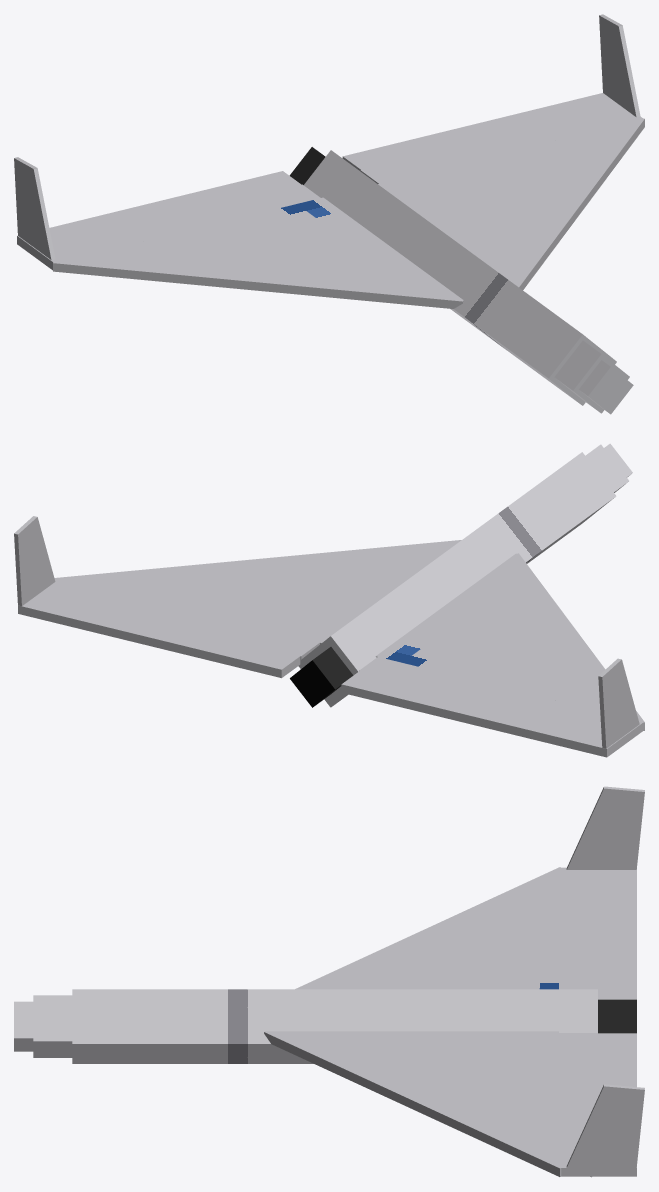
File: mgm172.obj
The picture shows the model from 3 angles, top to bottom: view 1: azimuth 30°, elevation 25°; view 2: azimuth 150°, elevation 25°; view 3: azimuth 270°, elevation 25°; orthographic projection. The views are drawn at different scales.
Parts seen in each view (by area): view 1: cube.061, cube.036, cube.050, cube.057, cube.037, cube.051, cube.048, cube.045, cube.052, cube.055, cube.043, cube.042 (+12 smaller); view 2: cube.061, cube.057, cube.048, cube.052, cube.050, cube.042, cube.051, cube.037, cube.036, cube.055, cube.045, cube.043 (+11 smaller); view 3: cube.061, cube.050, cube.036, cube.052, cube.048, cube.037, cube.042, cube.051, cube.055, cube.045, cube.060, cube.053 (+11 smaller).
Boxes of the visible parts, left/top/right/bottom form: cube.061: left=304, top=150, right=616, bottom=405; cube.036: left=53, top=249, right=463, bottom=308; cube.050: left=502, top=114, right=644, bottom=289; cube.057: left=342, top=93, right=621, bottom=171; cube.037: left=35, top=184, right=320, bottom=270; cube.051: left=360, top=106, right=642, bottom=183; cube.048: left=17, top=171, right=300, bottom=257; cube.045: left=248, top=204, right=391, bottom=273; cube.052: left=492, top=125, right=602, bottom=262; cube.055: left=402, top=166, right=512, bottom=243; cube.043: left=297, top=197, right=446, bottom=294; cube.042: left=97, top=237, right=402, bottom=281; cube.061: left=298, top=452, right=616, bottom=707; cube.057: left=18, top=592, right=300, bottom=678; cube.048: left=341, top=670, right=625, bottom=757; cube.052: left=94, top=549, right=436, bottom=602; cube.050: left=54, top=540, right=461, bottom=589; cube.042: left=491, top=568, right=600, bottom=716; cube.051: left=41, top=582, right=319, bottom=664; cube.037: left=359, top=657, right=643, bottom=743; cube.036: left=499, top=553, right=644, bottom=730; cube.055: left=249, top=572, right=385, bottom=636; cube.045: left=402, top=598, right=519, bottom=674; cube.043: left=375, top=566, right=525, bottom=662; cube.061: left=72, top=989, right=597, bottom=1063; cube.050: left=264, top=1031, right=572, bottom=1176; cube.036: left=295, top=867, right=584, bottom=989; cube.052: left=299, top=1036, right=581, bottom=1147; cube.048: left=598, top=869, right=636, bottom=999; cube.037: left=559, top=867, right=597, bottom=989; cube.042: left=317, top=888, right=587, bottom=989; cube.051: left=559, top=1033, right=597, bottom=1176; cube.055: left=370, top=1044, right=558, bottom=1068; cube.045: left=378, top=966, right=558, bottom=989; cube.060: left=595, top=1084, right=644, bottom=1175; cube.053: left=301, top=1031, right=558, bottom=1044.
Size of the model in its own units: 4.54 by 0.8976 by 4.02.
